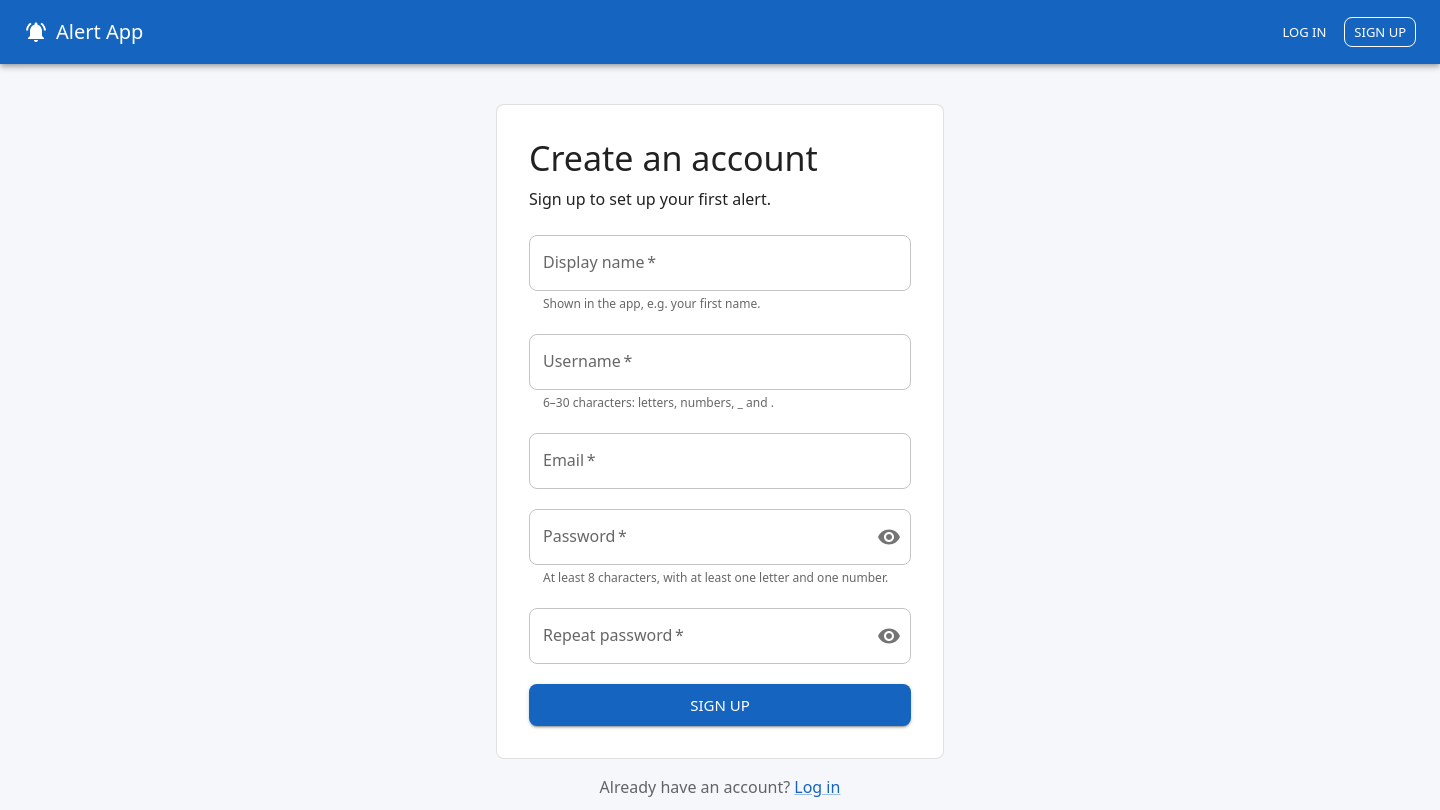
Test: SignUpPage › validation in the browser › moves focus to the first wrong field on submit
Click the button "Sign up" at (720, 705), box [529,684,911,726]
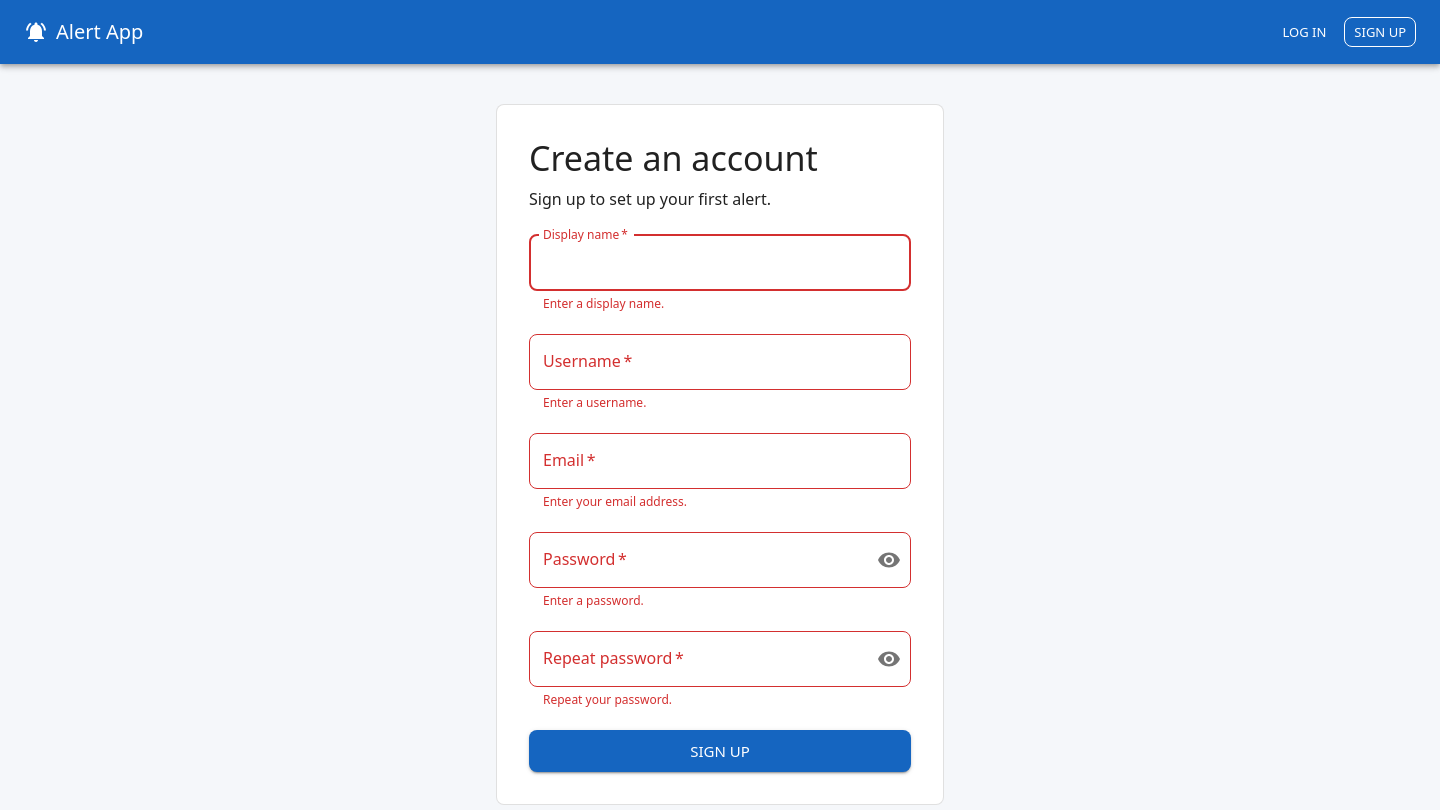
expect the text "Enter a username." is shown: met, box [543,394,646,411]
